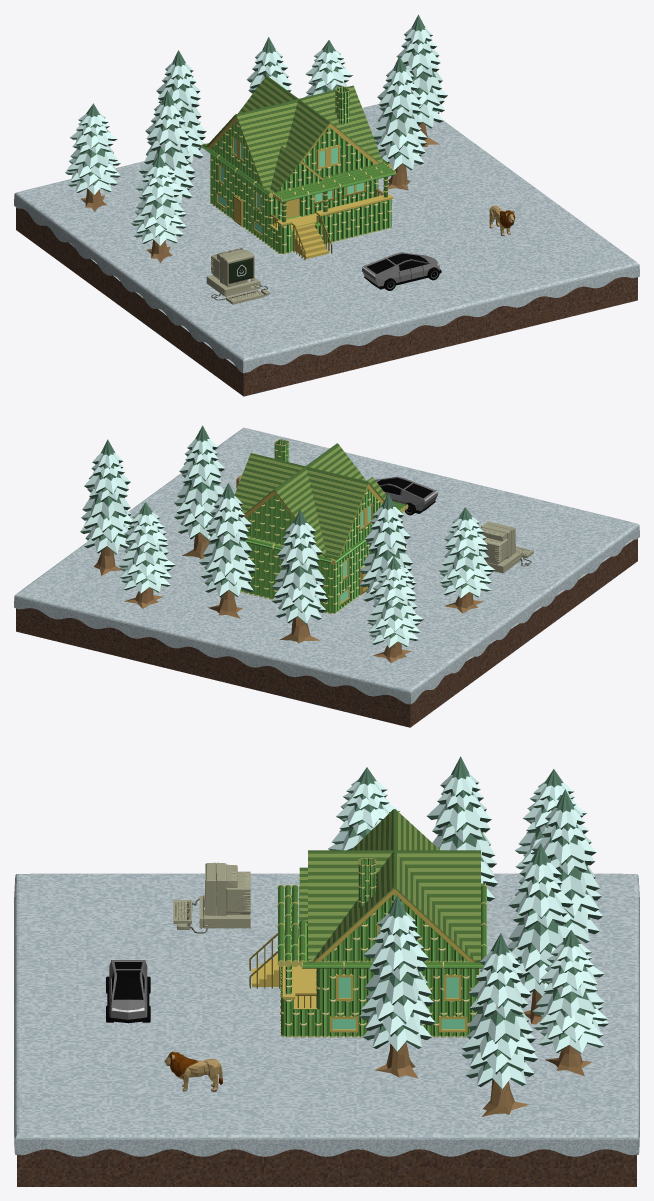
3 views of the same model, one above another, from view 1: azimuth 30°, elevation 25°; view 2: azimuth 150°, elevation 25°; view 3: azimuth 270°, elevation 25° (orthographic). The views are drawn at different scales.
Visible parts, largest first — view 1: Cube.003, Cube.1327, OBJRANDOM_RETRO_PC, VEHICLES_CYBERTRUCK; view 2: Cube.003, Cube.1327, OBJRANDOM_RETRO_PC, VEHICLES_CYBERTRUCK; view 3: Cube.003, Cube.1327, OBJRANDOM_RETRO_PC, VEHICLES_CYBERTRUCK, ANIMAL_LEON.
Boxes of the visible parts, <box> form: Cube.003: <box>14,14,639,396</box>; Cube.1327: <box>201,76,396,260</box>; OBJRANDOM_RETRO_PC: <box>206,248,269,304</box>; VEHICLES_CYBERTRUCK: <box>362,252,441,290</box>; Cube.003: <box>14,425,639,727</box>; Cube.1327: <box>234,439,408,613</box>; OBJRANDOM_RETRO_PC: <box>481,521,533,573</box>; VEHICLES_CYBERTRUCK: <box>375,476,437,515</box>; Cube.003: <box>14,756,639,1186</box>; Cube.1327: <box>249,809,487,1037</box>; OBJRANDOM_RETRO_PC: <box>173,862,250,933</box>; VEHICLES_CYBERTRUCK: <box>106,959,150,1023</box>; ANIMAL_LEON: <box>164,1051,222,1091</box>.
Size of the model in its own units: 4040 by 1708 by 4040.
28 materials, 4 textured.
